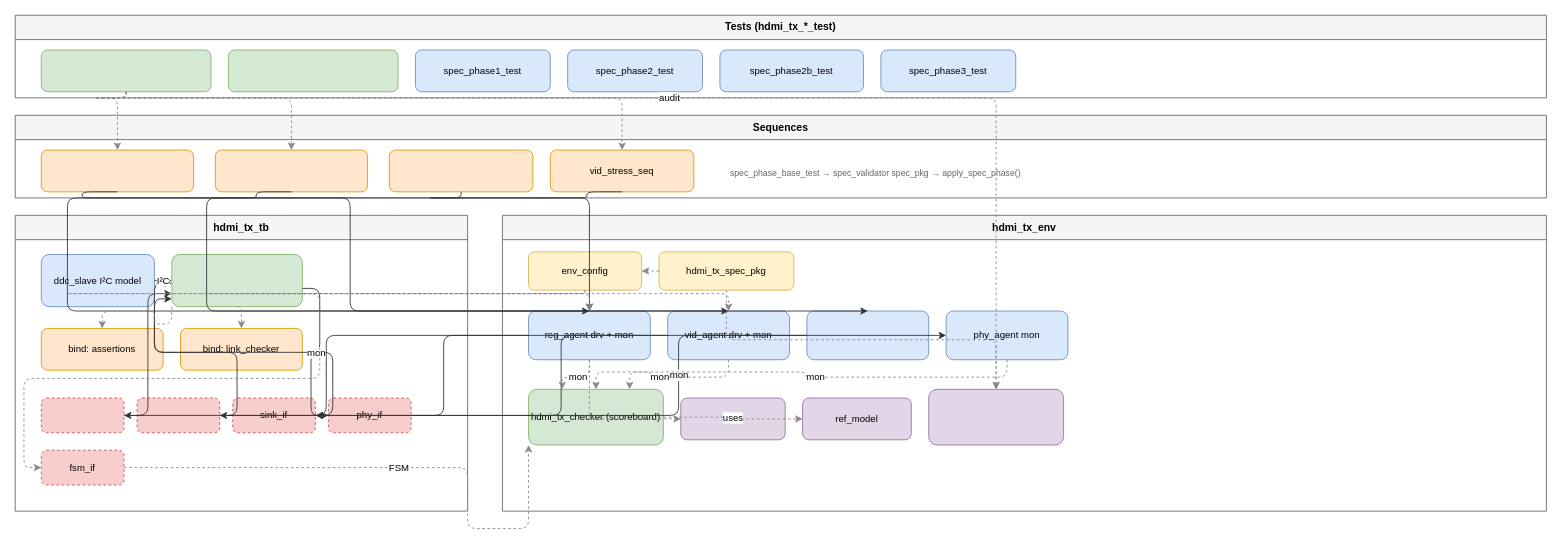
The diagram is 1562 pixels wide and 551 high, and some of its shapes have lost their labels. Here are the shapes that lost their labels. From the top down, the centre of each, then its label:
(x=125, y=70): hdmi22_full_test (primary)
(x=313, y=70): spec_regression_test
(x=117, y=170): sink_connect_seq
(x=291, y=170): link_bringup_seq
(x=460, y=170): reg_audit_seq
(x=236, y=280): hdmi_tx_top (DUT)
(x=867, y=335): sink_agent drv
(x=82, y=415): reg_if
(x=178, y=415): vid_if
(x=732, y=418): coverage
(x=996, y=416): spec_validator §4–§5
